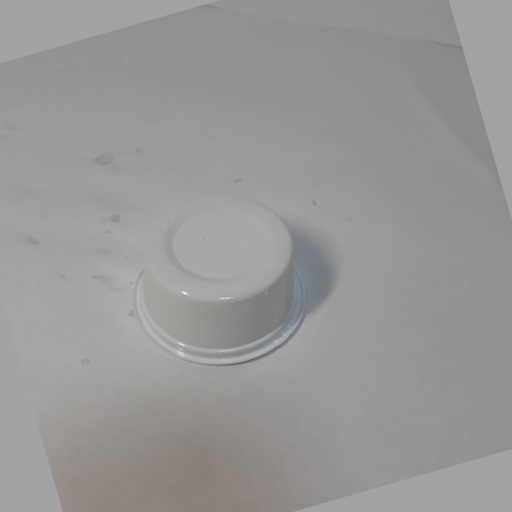Plastic_5: (128, 195, 309, 366)
